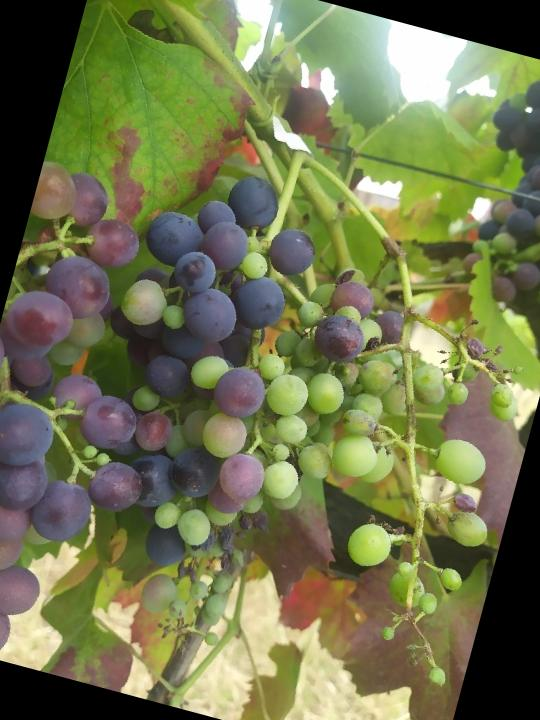grape: (34, 147, 383, 674), (233, 260, 540, 690)
